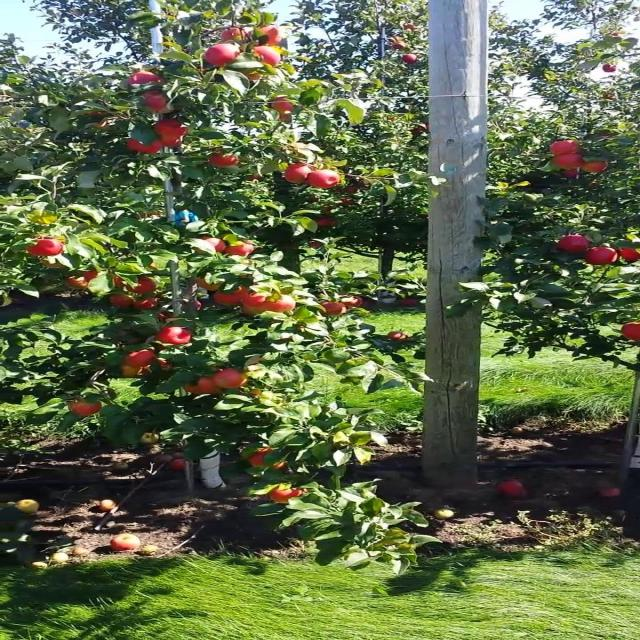apple: (205, 44, 242, 67), (248, 448, 284, 471), (212, 288, 251, 307), (212, 368, 249, 388), (141, 92, 172, 114), (184, 380, 226, 396), (582, 248, 619, 266), (63, 272, 100, 289), (262, 296, 299, 313), (269, 488, 308, 504), (156, 328, 192, 345), (284, 164, 313, 184), (28, 240, 64, 256), (120, 280, 156, 296), (127, 140, 164, 155), (156, 120, 190, 136), (241, 296, 268, 316), (255, 28, 283, 47), (70, 400, 103, 416), (269, 100, 295, 120), (127, 72, 165, 85), (312, 172, 341, 189), (561, 236, 590, 253), (198, 236, 228, 252), (255, 48, 281, 65), (127, 352, 156, 367), (554, 140, 583, 155), (120, 364, 149, 379), (84, 112, 110, 128), (248, 292, 270, 309), (554, 156, 583, 168), (227, 244, 256, 256), (319, 304, 348, 316), (212, 156, 240, 168), (220, 28, 247, 40), (340, 296, 364, 308), (134, 300, 158, 312), (198, 280, 222, 292), (618, 248, 638, 262), (113, 296, 135, 308), (163, 136, 185, 148), (241, 304, 263, 316), (582, 164, 610, 173), (625, 324, 639, 341), (156, 360, 176, 370), (42, 260, 64, 268), (390, 332, 409, 341), (561, 172, 583, 179), (319, 220, 336, 228), (248, 72, 263, 81), (604, 64, 619, 72), (404, 300, 420, 307)
